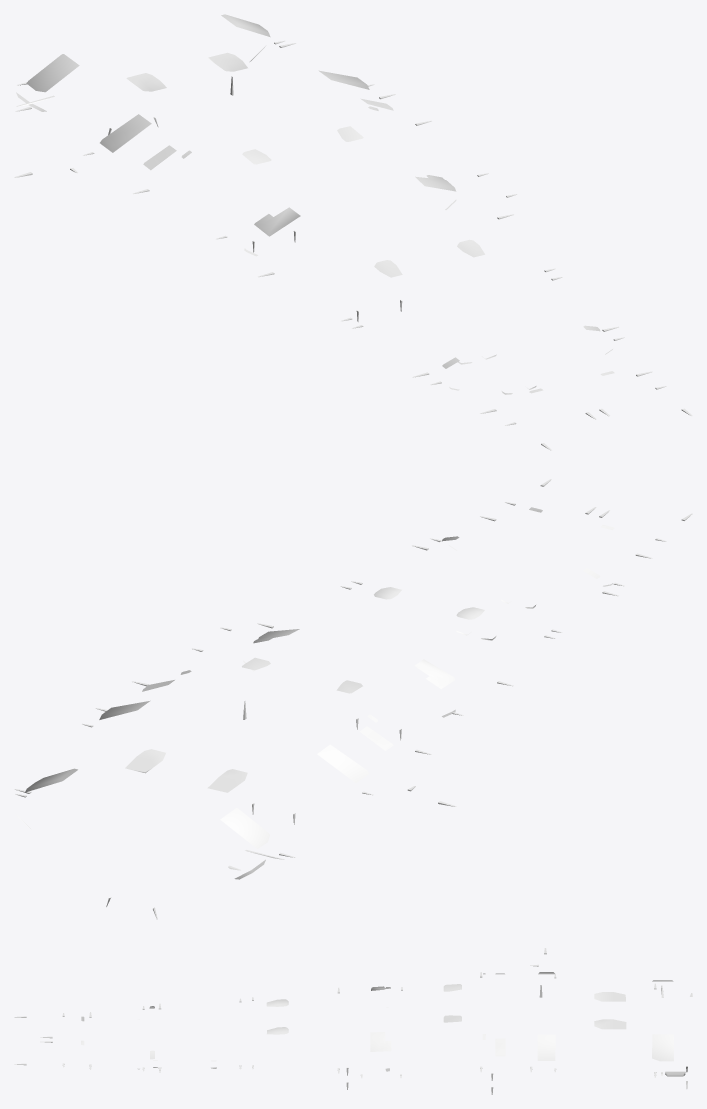
Rendered from hgn_fs_batt_02.glb.
The picture shows the model from 3 angles, top to bottom: view 1: azimuth 30°, elevation 25°; view 2: azimuth 150°, elevation 25°; view 3: azimuth 270°, elevation 25°; orthographic projection. The views are drawn at different scales.
Parts seen in each view (by area): view 1: hgn_flagship_battlecruiser_02_LOD0; view 2: hgn_flagship_battlecruiser_02_LOD0; view 3: hgn_flagship_battlecruiser_02_LOD0.
Boxes of the visible parts, bbox=[...] form: hgn_flagship_battlecruiser_02_LOD0: bbox=[14, 14, 692, 450]; hgn_flagship_battlecruiser_02_LOD0: bbox=[14, 479, 692, 919]; hgn_flagship_battlecruiser_02_LOD0: bbox=[14, 948, 692, 1094].
Size of what is drawn, in the model's own units: 6.96 by 2.63 by 16.04.
1 material, 1 textured.
